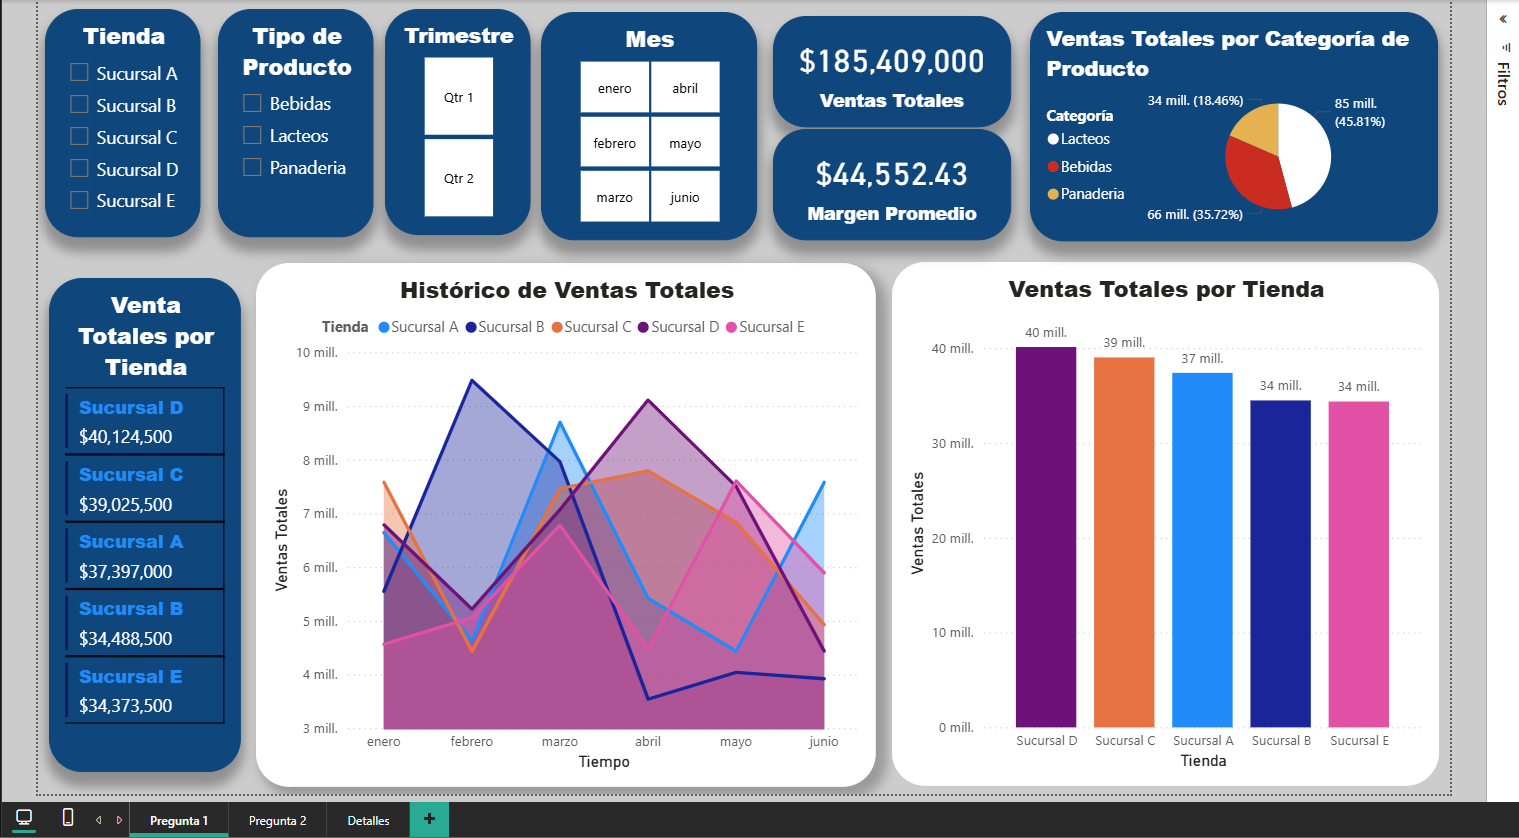

The dashboard page shown, as its layout file describes it:
{"tool":"powerbi","page":{"name":"Pregunta 1","canvas":[1280,720],"ordinal":0},"visuals":[{"type":"slicer","title":"Tipo de Producto","fields":{"Values":["Dim_Producto.Categoria_Producto"]},"box":[163,8.4,141.5,207.1],"z":0},{"type":"areaChart","title":"Histórico de Ventas Totales","fields":{"Y":["ventas_robusto.Ventas Totales"],"Series":["Dim_Tienda.Tienda"],"Category":["ventas_robusto.Fecha.Variación.Jerarquía de fechas.Mes"]},"box":[197.7,238.5,562.2,475.2],"z":1000},{"type":"multiRowCard","title":"Venta Totales por Tienda","fields":{"Values":["ventas_robusto.Ventas Totales","Dim_Tienda.Tienda"]},"box":[10,252,174,448],"z":2000},{"type":"slicer","title":"Trimestre","fields":{"Values":["ventas_robusto.Fecha.Variación.Jerarquía de fechas.Trimestre"]},"box":[314.8,8.4,132.1,205.2],"z":3000},{"type":"slicer","title":"Mes","fields":{"Values":["ventas_robusto.Fecha.Variación.Jerarquía de fechas.Mes"]},"box":[456.3,11.2,195.8,207.1],"z":4000},{"type":"columnChart","fields":{"Y":["ventas_robusto.Ventas Totales"],"Category":["Dim_Tienda.Tienda"]},"box":[774,238,496,475],"z":5000},{"type":"pieChart","title":"Ventas Totales por Categoría de Producto","fields":{"Category":["Dim_Producto.Categoria_Producto"],"Y":["ventas_robusto.Ventas Totales"]},"box":[899.6,11.2,370.1,208],"z":6000},{"type":"slicer","title":"Tienda","fields":{"Values":["Dim_Tienda.Tienda"]},"box":[6.6,8.4,141.5,207.1],"z":7000},{"type":"card","fields":{"Values":["ventas_robusto.Ventas Totales"]},"box":[666.2,14.1,215.5,101.2],"z":8000},{"type":"card","fields":{"Values":["Avg(ventas_robusto.Margen)"]},"box":[666.2,117.1,215.5,101.2],"z":9000}]}

Visuals, with their boxes on the page's 1280x720 design canvas (x1, y1, x2, y2). These are canvas units, not pixel positions in the 1519x838 screenshot, which may show the page scaled, cropped or inside an application window:
"Tipo de Producto" slicer: {"x1": 163, "y1": 8, "x2": 304, "y2": 216}
"Histórico de Ventas Totales" areaChart: {"x1": 198, "y1": 238, "x2": 760, "y2": 714}
"Venta Totales por Tienda" multiRowCard: {"x1": 10, "y1": 252, "x2": 184, "y2": 700}
"Trimestre" slicer: {"x1": 315, "y1": 8, "x2": 447, "y2": 214}
"Mes" slicer: {"x1": 456, "y1": 11, "x2": 652, "y2": 218}
columnChart - ventas_robusto.Ventas Totales x Dim_Tienda.Tienda: {"x1": 774, "y1": 238, "x2": 1270, "y2": 713}
"Ventas Totales por Categoría de Producto" pieChart: {"x1": 900, "y1": 11, "x2": 1270, "y2": 219}
"Tienda" slicer: {"x1": 7, "y1": 8, "x2": 148, "y2": 216}
card - ventas_robusto.Ventas Totales: {"x1": 666, "y1": 14, "x2": 882, "y2": 115}
card - Avg(ventas_robusto.Margen): {"x1": 666, "y1": 117, "x2": 882, "y2": 218}
